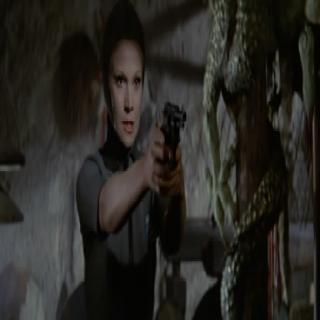gun: (154, 89, 187, 195)
